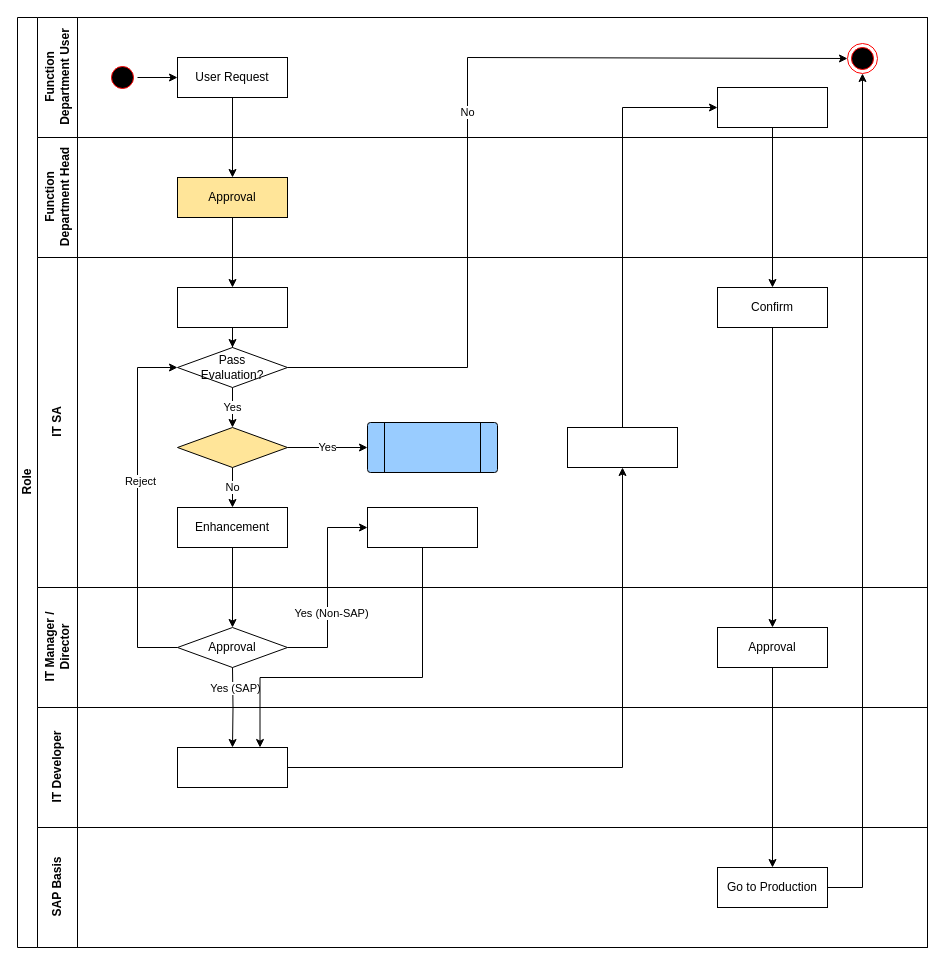
The diagram is 945 pixels wide and 965 high, and some of its shapes have lost their labels. Each missing label, with the centre of its shape:
"8.2 IT Test" belongs at (x=622, y=447).
"8.2 UAT Test" belongs at (x=772, y=107).
"Create Jira Ticket" belongs at (x=232, y=307).
"Create WKF Ticket" belongs at (x=422, y=527).
"Develop" belongs at (x=232, y=767).
"Over than ?" belongs at (x=232, y=447).
"Project Process" belongs at (x=432, y=447).
